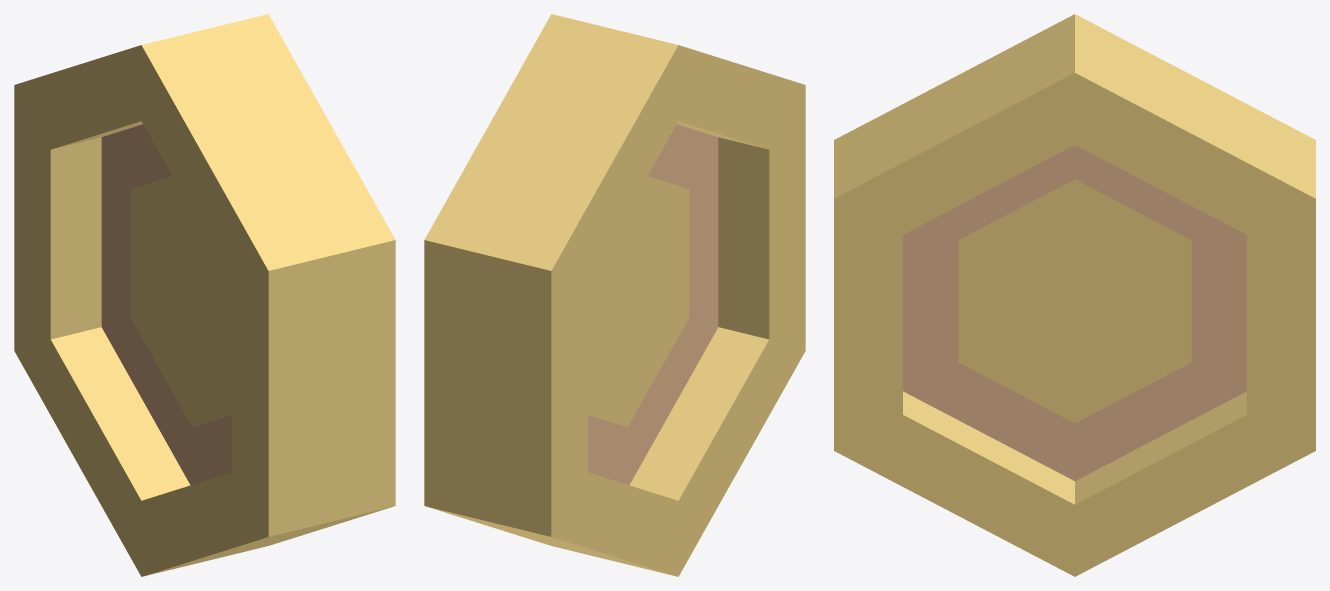
File: coin-gold.glb
The picture shows the model from 3 angles, left to right: view 1: azimuth 30°, elevation 25°; view 2: azimuth 150°, elevation 25°; view 3: azimuth 270°, elevation 25°; orthographic projection. The views are drawn at different scales.
Visible parts, largest first — view 1: coin_gold; view 2: coin_gold; view 3: coin_gold.
Part boxes in pixels (x1,y1,x2,y2): coin_gold: [14, 14, 395, 576]; coin_gold: [424, 14, 805, 576]; coin_gold: [834, 14, 1315, 576].
Size of the model in its own units: 0.1 by 0.4 by 0.3464.
